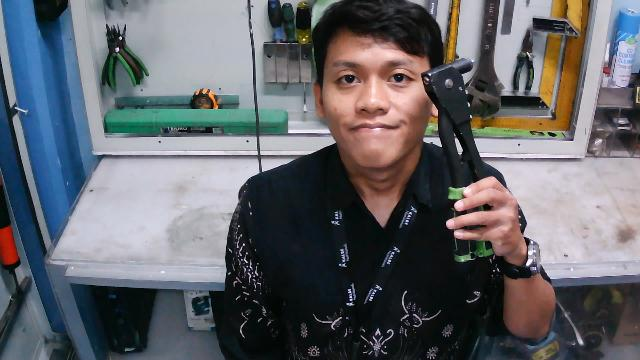tang_rivet: (421, 55, 498, 265)
